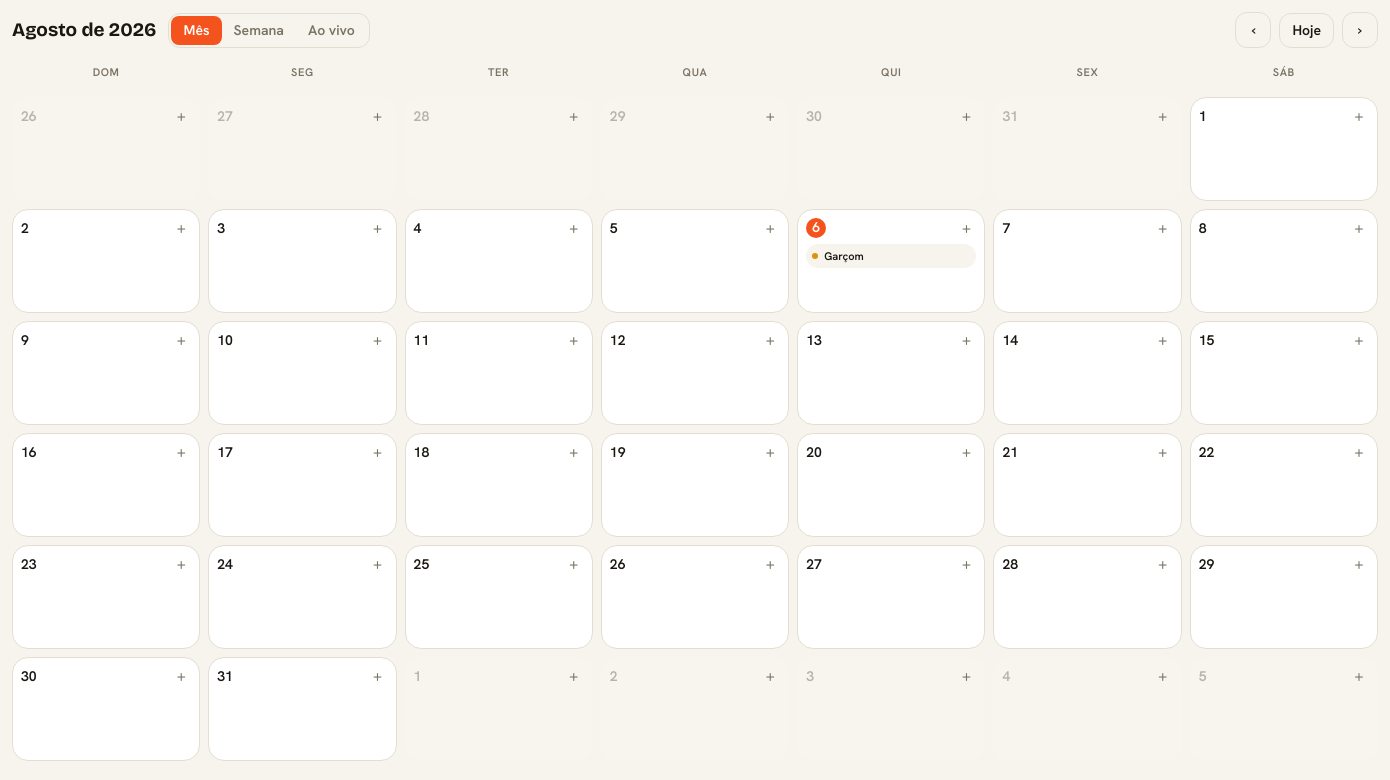
it: EscalaPage › alterna pra visão semanal e mostra o turno com posições preenchidas/total
Expected: the heading "Agosto de 2026" is shown, [12,16,156,44]
What coordinates should you click on to do the following:
click the button "Semana"
I would click on:
 (259, 30)
Its box is [222,16,296,44].
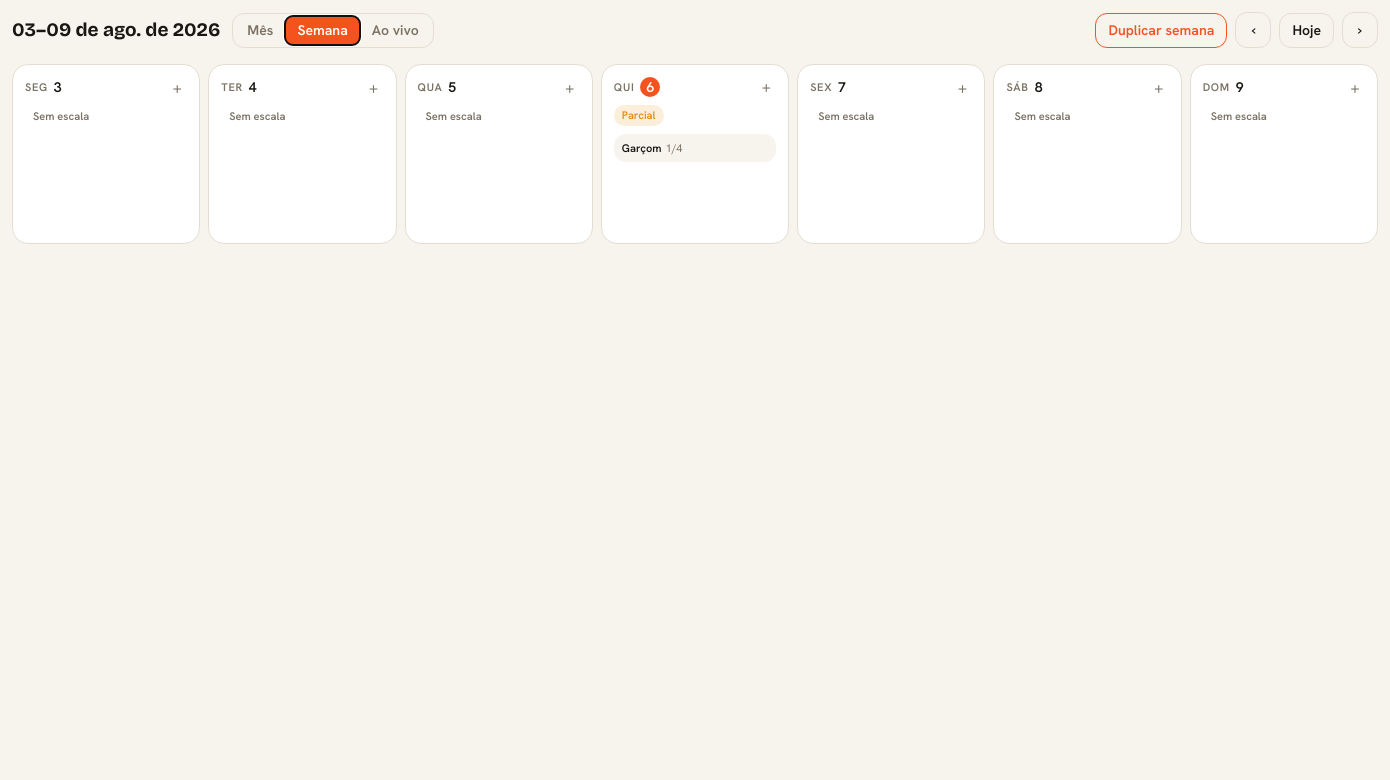
Expected: the button "Duplicar semana" is shown, [1096,12,1228,48]
Expected: the text "1/4" is shown, [666,140,682,154]
